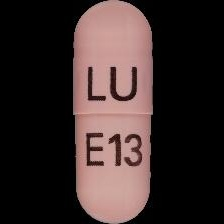68180-757: (0, 0, 224, 224)
